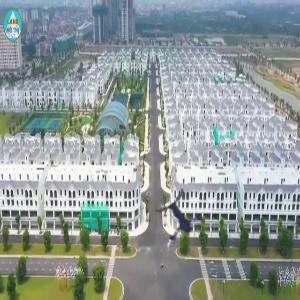drone: (152, 190, 219, 257)
